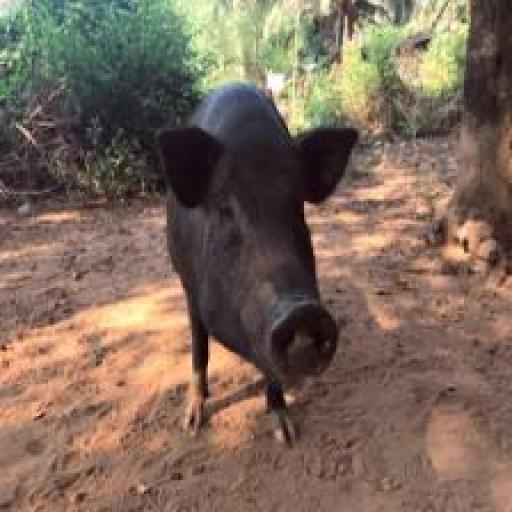Pig: (162, 71, 366, 462)
